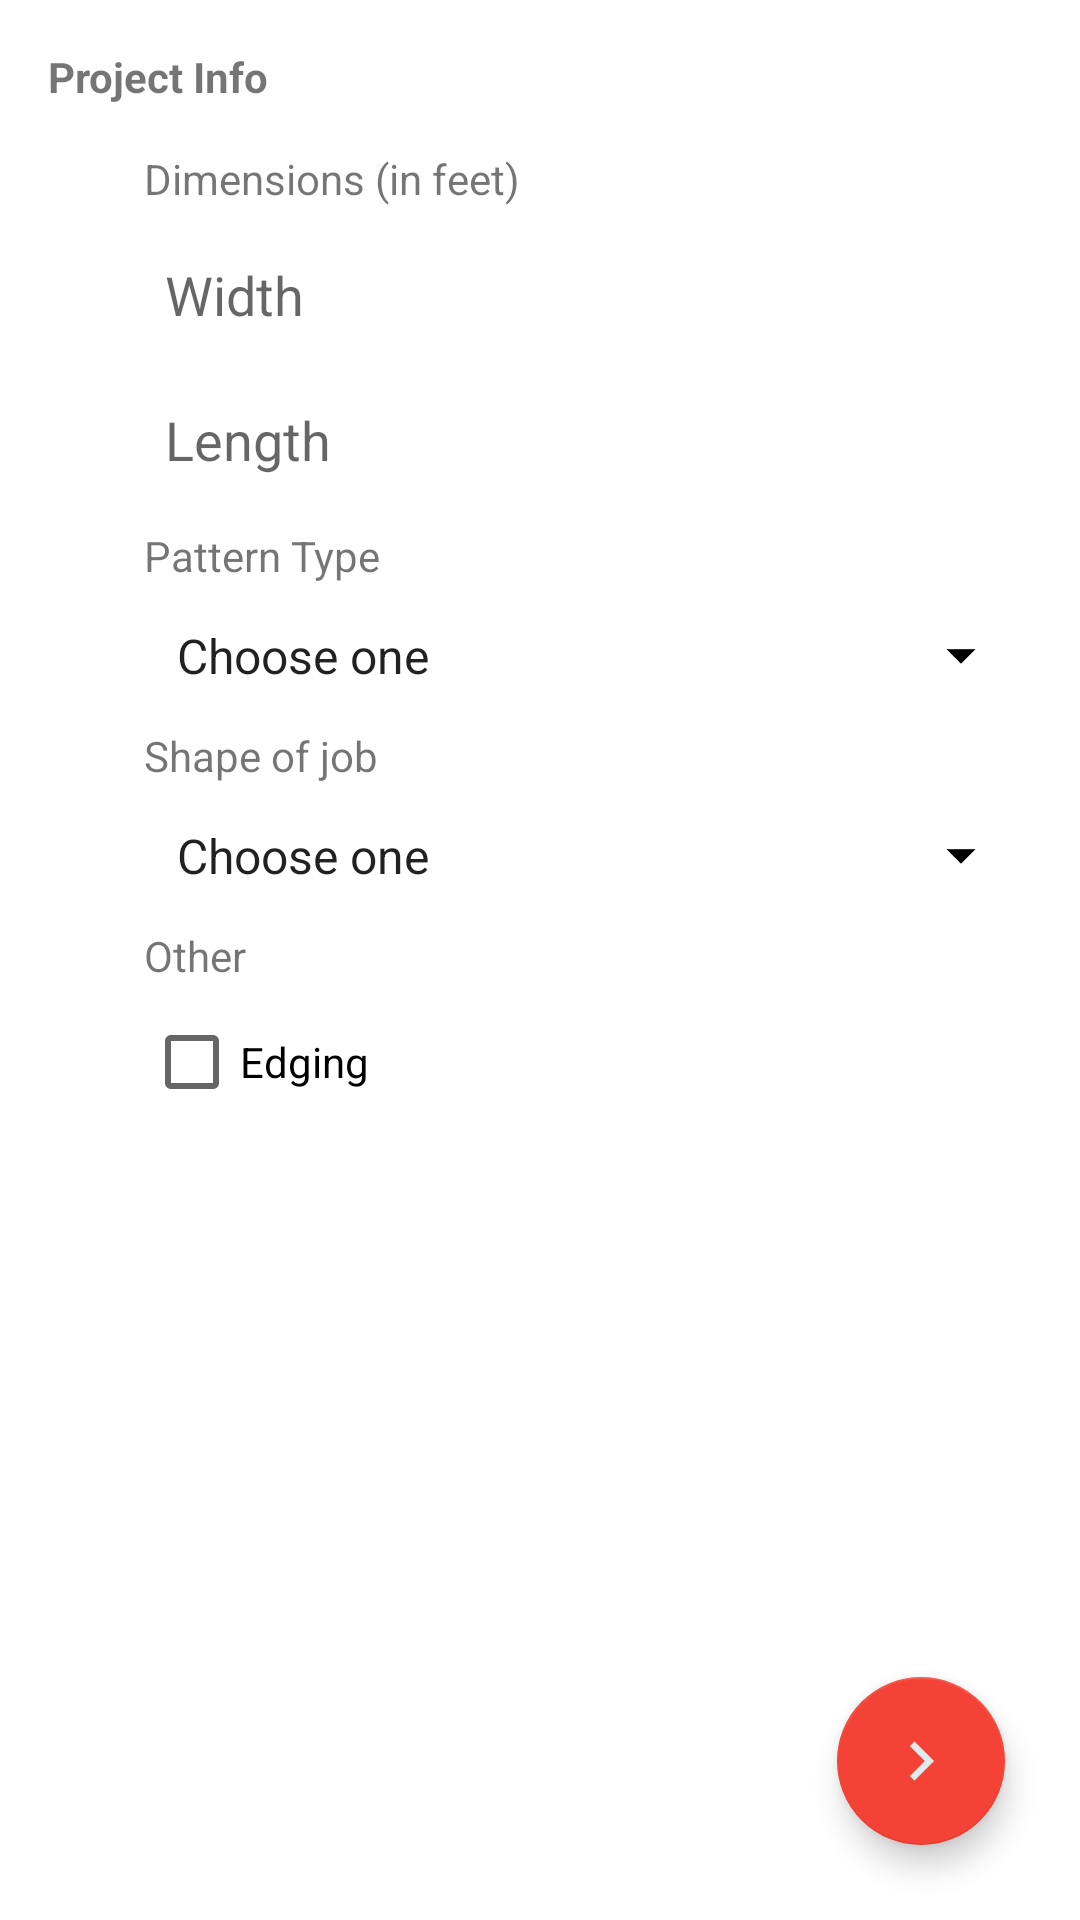

Icons on this 1080*1920 Android screen, each with the point to tap as [x,y]:
right arrow: [921,1761]
